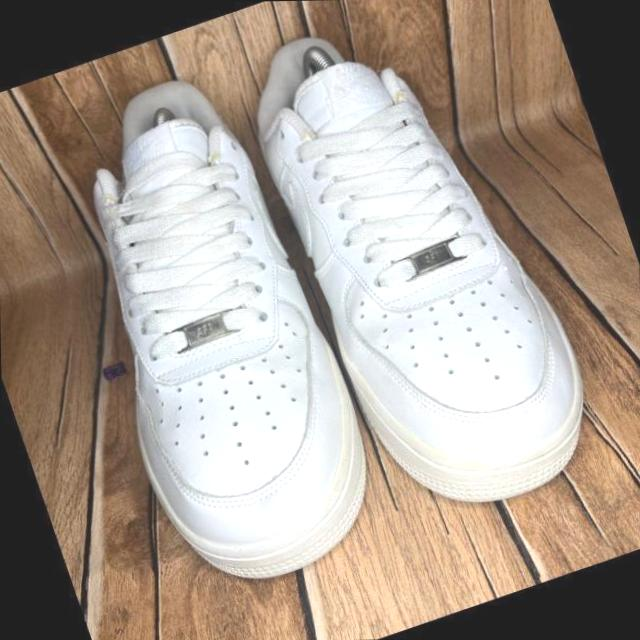nike_fake_airforce: (225, 0, 618, 540), (23, 56, 395, 610)
